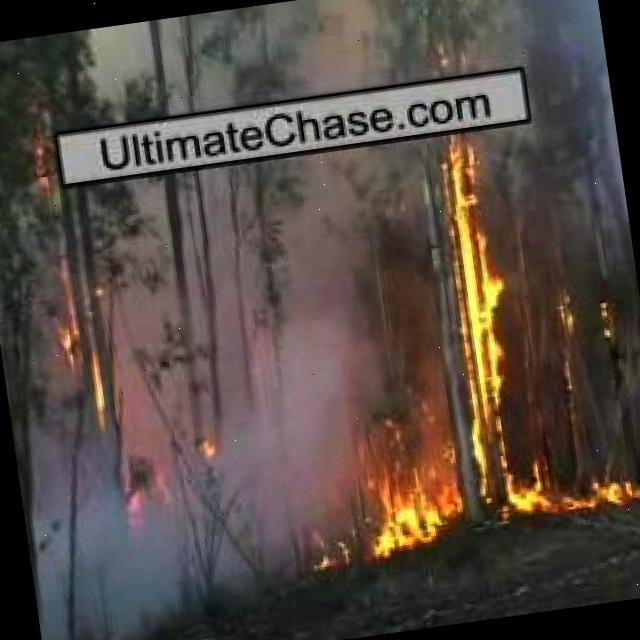fire: (356, 415, 640, 541), (435, 129, 511, 430), (48, 281, 119, 434), (548, 290, 586, 372), (23, 136, 62, 188), (592, 294, 622, 351)
